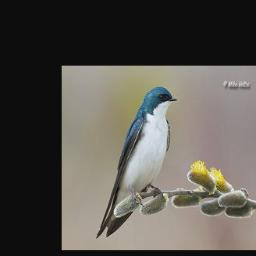Swallow: (95, 86, 178, 240)
